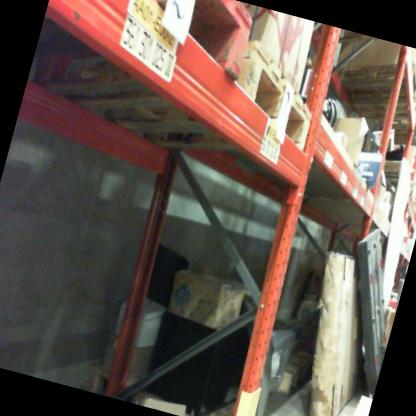pallet: (16, 0, 332, 197), (25, 0, 260, 147), (84, 347, 260, 416), (317, 35, 416, 130), (342, 147, 416, 245), (263, 337, 328, 406), (382, 64, 416, 165), (346, 381, 374, 416)
